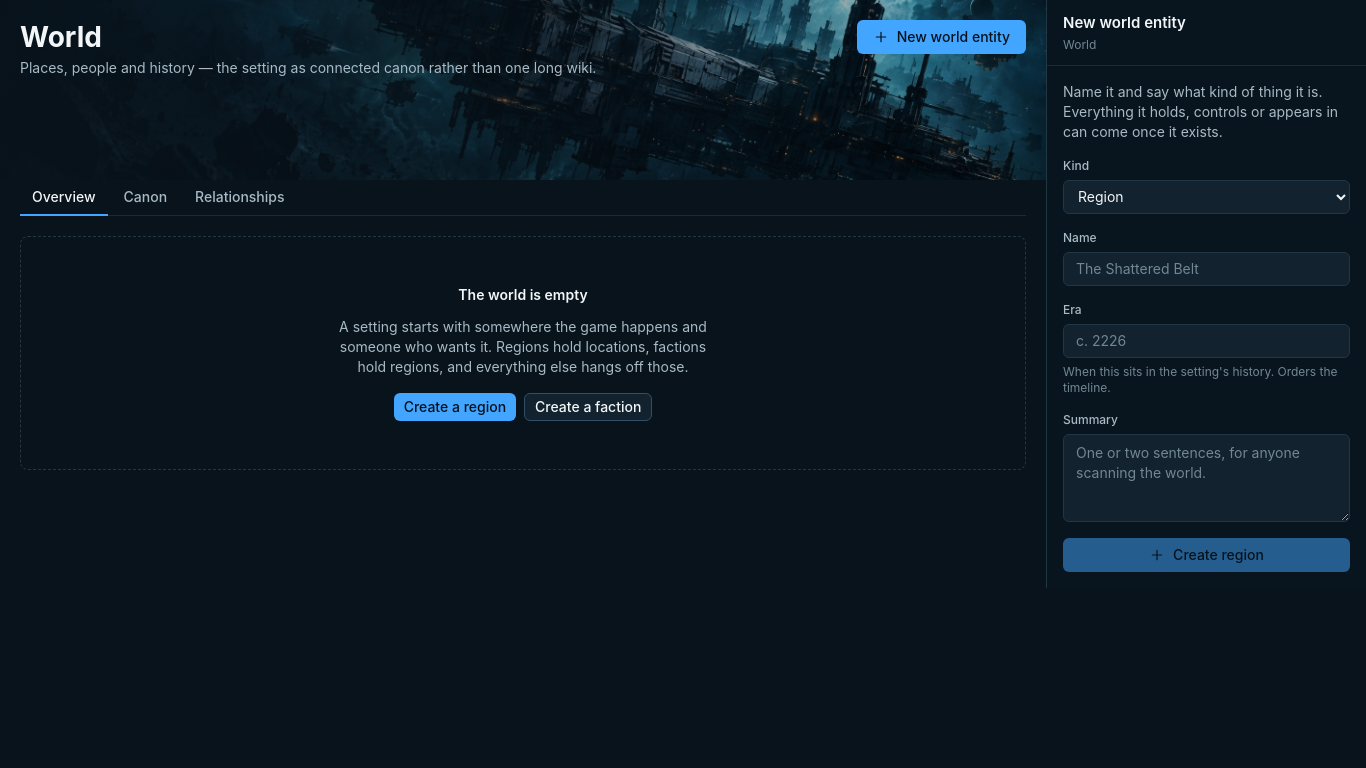
Test: World workspace › browsing the canon › tells a fruitless search apart from an empty world
Check: the text "The world is empty" is shown, box [458,285,588,305]
Click the tab "Canon". click: (145,198)
box: [112,180,179,216]
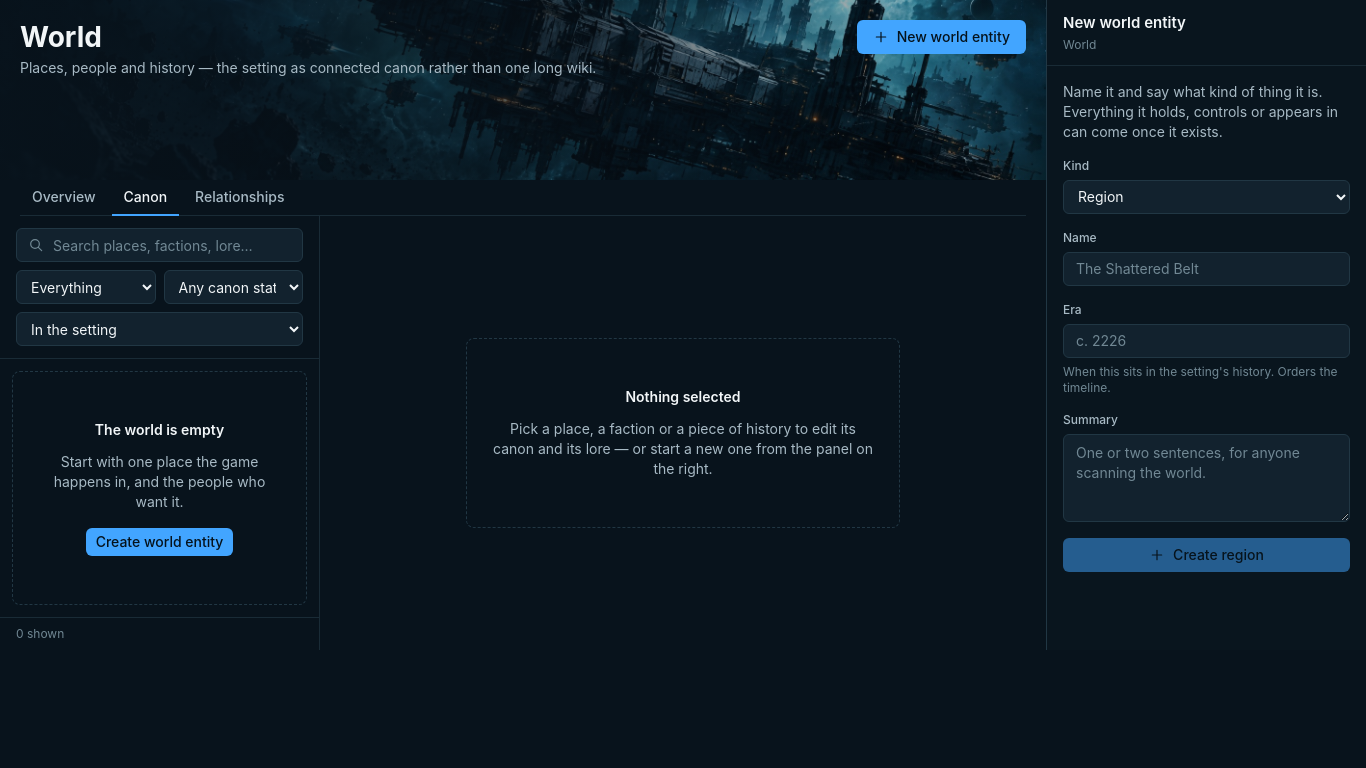
Type "derelict" into the search field named "Search the world". click: (160,245)
box: [16,228,303,262]
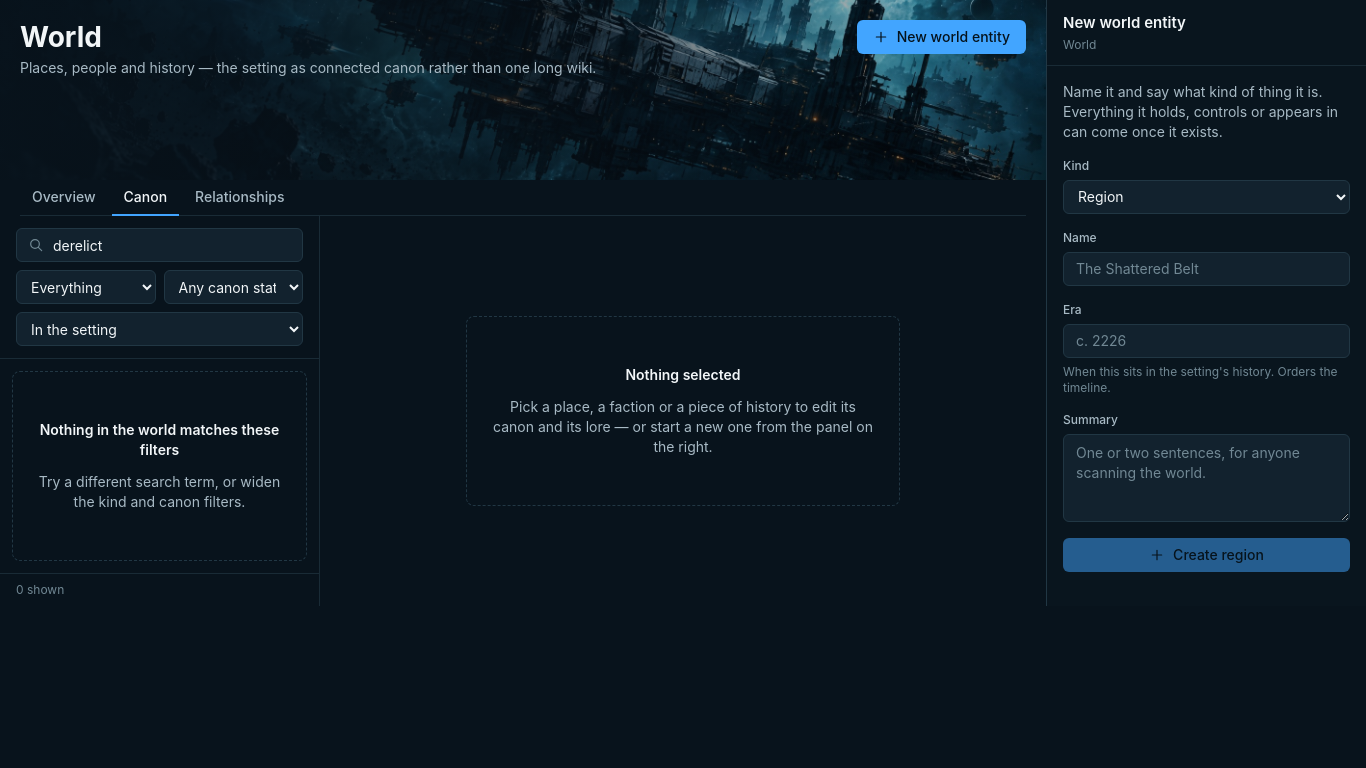
Check: the text "Nothing in the world matches these filters" is shown, box [37,420,282,460]
